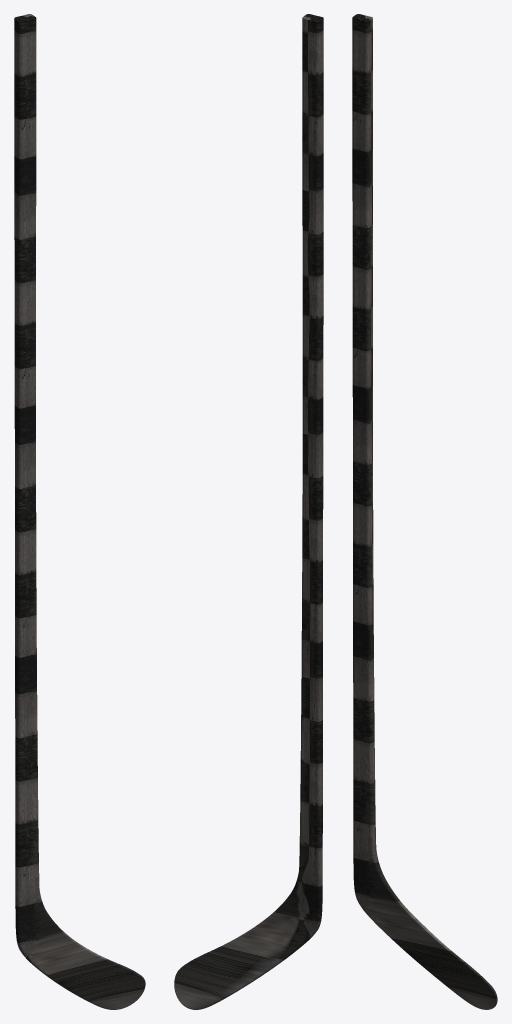
The model's file is P23-SBT.glb.
3 renders of one model, left to right at view 1: azimuth 30°, elevation 25°; view 2: azimuth 150°, elevation 25°; view 3: azimuth 330°, elevation 25°, orthographic. The views are drawn at different scales.
Visible parts, largest first — view 1: geometry_0; view 2: geometry_0; view 3: geometry_0.
Part boxes in pixels (x1=…): geometry_0: x1=14, y1=14, x2=145, y2=1009; geometry_0: x1=174, y1=14, x2=323, y2=1009; geometry_0: x1=352, y1=14, x2=497, y2=1009.
Bounding box in the file's own units: 234 × 1650 × 57.76.
1 material, 1 textured.
